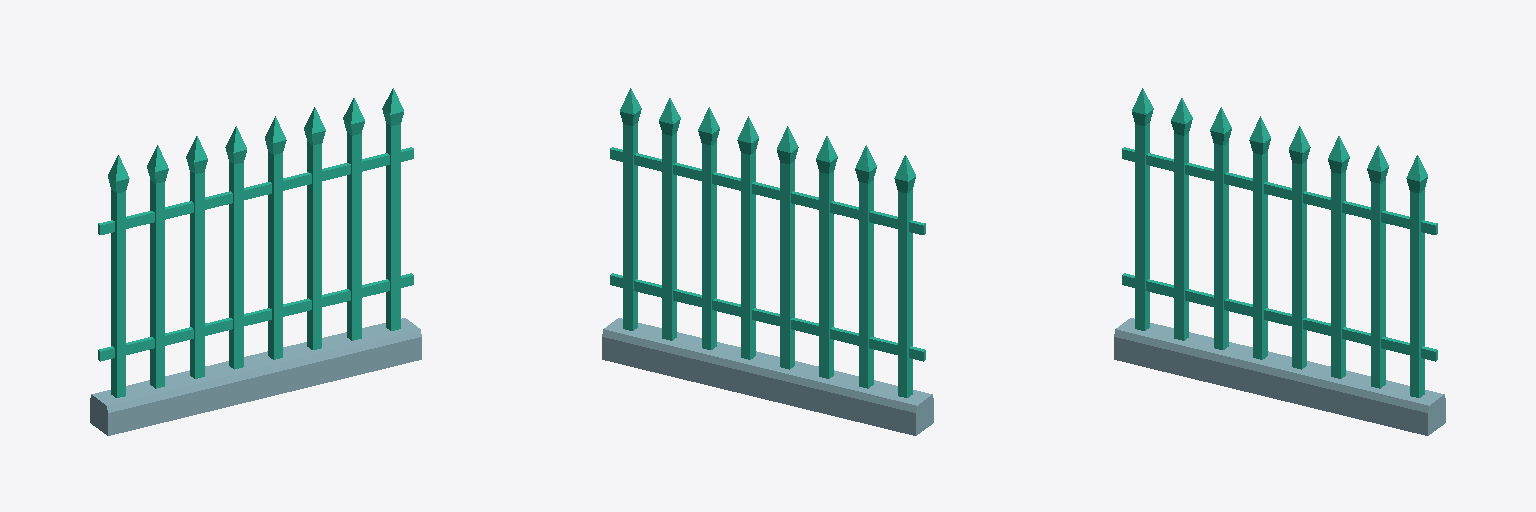
The model's file is ironFenceBorder.obj.
The picture shows the model from 3 angles: view 1: azimuth 30°, elevation 25°; view 2: azimuth 150°, elevation 25°; view 3: azimuth 330°, elevation 25°; orthographic projection.
Parts seen in each view (by area): view 1: ironFenceBorder; view 2: ironFenceBorder; view 3: ironFenceBorder.
Part boxes in pixels (bbox=[...]): ironFenceBorder: bbox=[90, 88, 421, 435]; ironFenceBorder: bbox=[602, 88, 933, 435]; ironFenceBorder: bbox=[1114, 88, 1445, 435].
Size of the model in its own units: 1 by 0.8239 by 0.1.